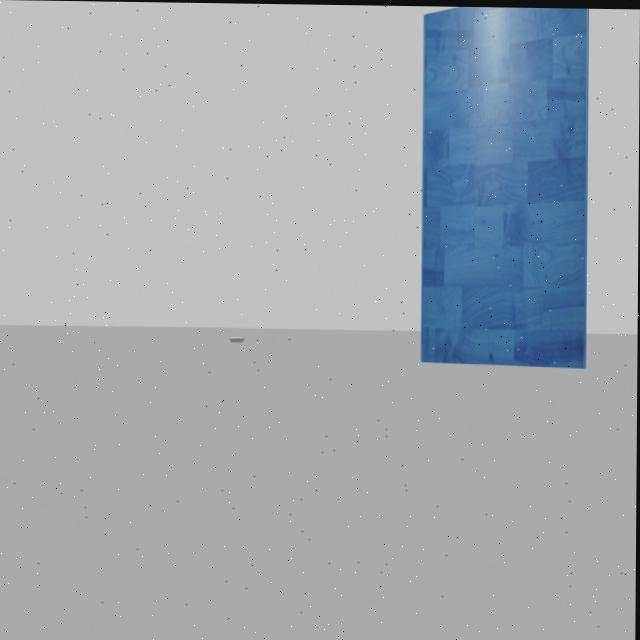bowl: (229, 326, 249, 351)
shelf: (411, 5, 599, 381)
